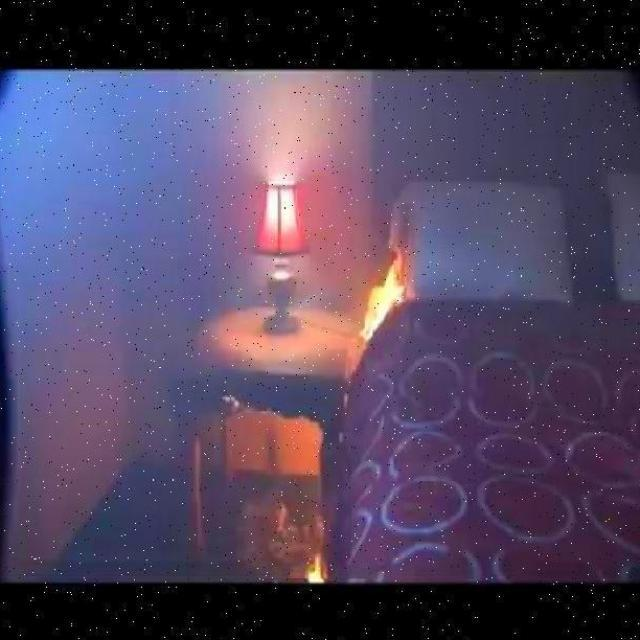smoke: (357, 253, 412, 345), (306, 543, 328, 582)
